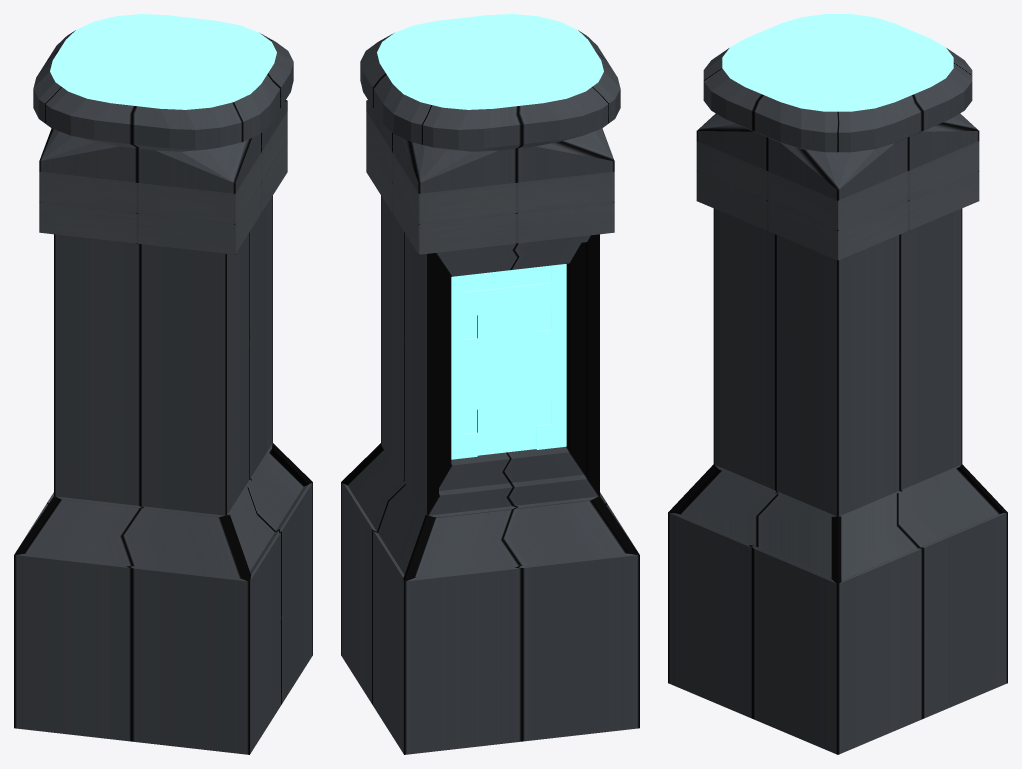
The model's file is Metal Building.fbx.
3 views of the same model, side by side, from view 1: azimuth 30°, elevation 25°; view 2: azimuth 150°, elevation 25°; view 3: azimuth 270°, elevation 25° (orthographic).
Visible parts, largest first — view 1: Cube; view 2: Cube; view 3: Cube.
Part boxes in pixels (<box>): Cube: <box>14,14,312,754</box>; Cube: <box>341,14,639,754</box>; Cube: <box>668,14,1007,754</box>.
Bounding box in the file's own units: 340 × 685 × 340.
Materials: 2 (1 with a texture image).
